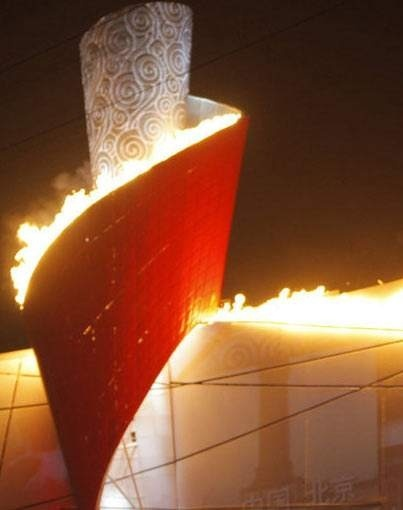fire: (10, 178, 95, 313), (191, 283, 401, 331)
